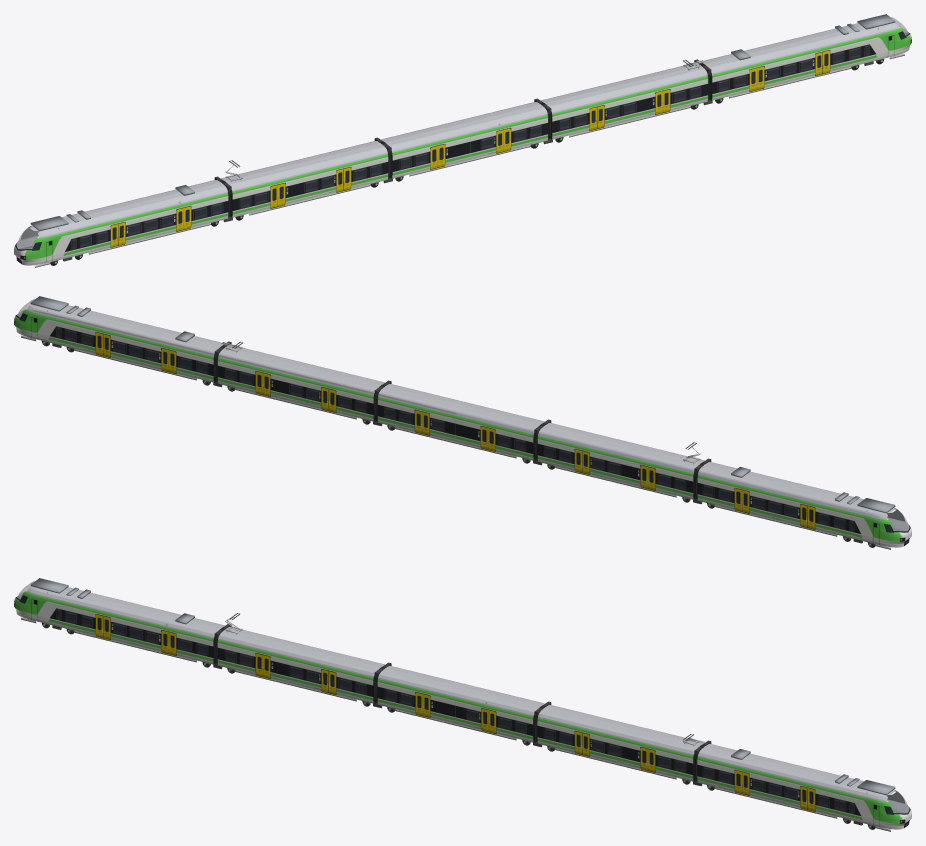
The model's file is FLIRT_KM_przed_szyby.glb.
3 views of the same model, one above another, from view 1: azimuth 30°, elevation 25°; view 2: azimuth 150°, elevation 25°; view 3: azimuth 330°, elevation 25° (orthographic).
Parts seen in each view (by area): view 1: FK_czlon1, FK_czlon5, FK_czlon3, FK_czlon2, FK_czlon4, FK_guma, FK_dach, FK_fbia, FK_fsza; view 2: FK_czlon1, FK_czlon5, FK_czlon3, FK_czlon2, FK_czlon4, FK_guma, FK_dach, FK_fbia, FK_fsza; view 3: FK_czlon5, FK_czlon1, FK_czlon3, FK_czlon2, FK_czlon4, FK_guma, FK_dach, FK_fbia, FK_fsza.
Boxes of the visible parts, x1,y1,x2,y2 form: FK_czlon1: (14, 180, 228, 265); FK_czlon5: (701, 17, 911, 100); FK_czlon3: (381, 102, 548, 178); FK_czlon2: (221, 141, 388, 217); FK_czlon4: (540, 63, 708, 139); FK_guma: (72, 45, 868, 249); FK_dach: (30, 14, 895, 231); FK_fbia: (35, 53, 904, 266); FK_fsza: (35, 55, 904, 267); FK_czlon1: (697, 462, 911, 547); FK_czlon5: (14, 299, 224, 382); FK_czlon3: (377, 384, 544, 460); FK_czlon2: (537, 423, 704, 499); FK_czlon4: (217, 345, 385, 421); FK_guma: (57, 327, 853, 531); FK_dach: (30, 296, 895, 513); FK_fbia: (21, 335, 890, 548); FK_fsza: (21, 337, 890, 549); FK_czlon5: (697, 744, 911, 829); FK_czlon1: (14, 581, 225, 664); FK_czlon3: (377, 666, 544, 742); FK_czlon2: (217, 627, 385, 703); FK_czlon4: (537, 705, 704, 781); FK_guma: (57, 609, 853, 813); FK_dach: (30, 578, 895, 795); FK_fbia: (21, 617, 890, 830); FK_fsza: (21, 619, 890, 831).
Bounding box in the file's own units: 96.95 × 5.6 × 2.96.
22 materials, 1 textured.
